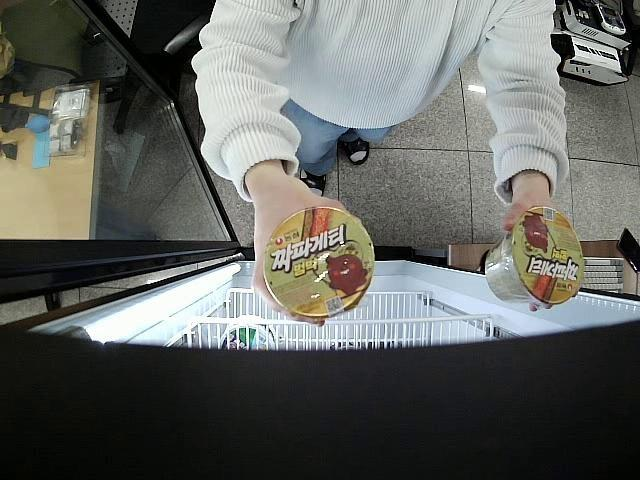04_chapagetti_S: (263, 207, 375, 316), (485, 206, 585, 307)
